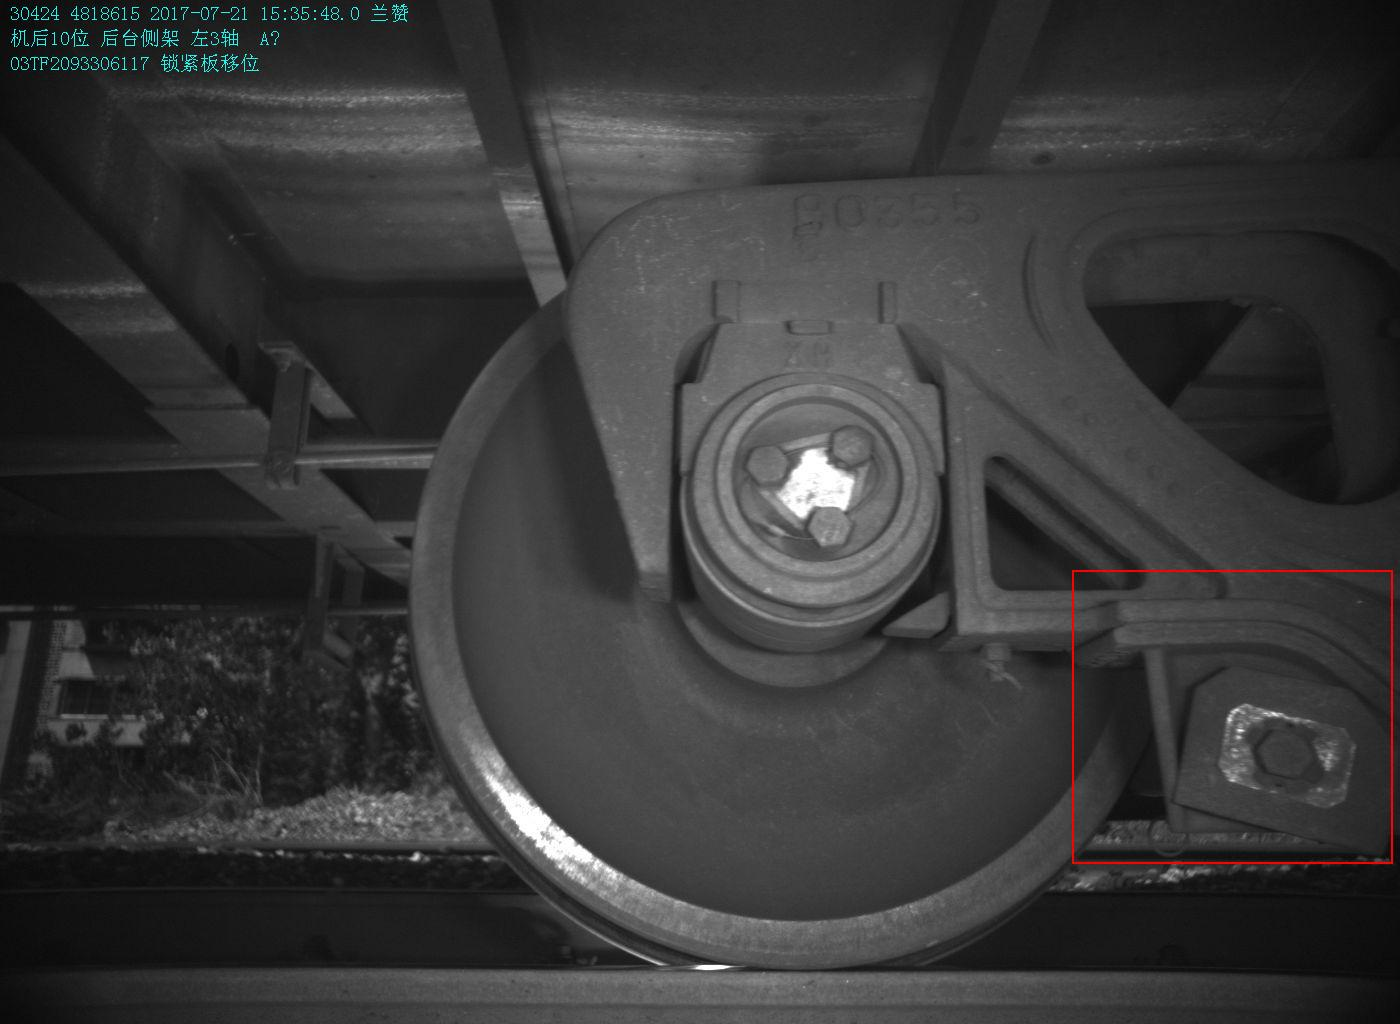Locking plate: (1143, 645, 1392, 860)
